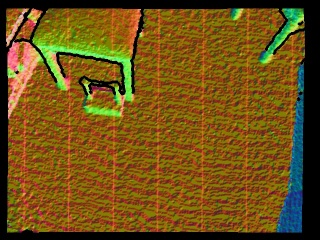station: (80, 77, 126, 117)
